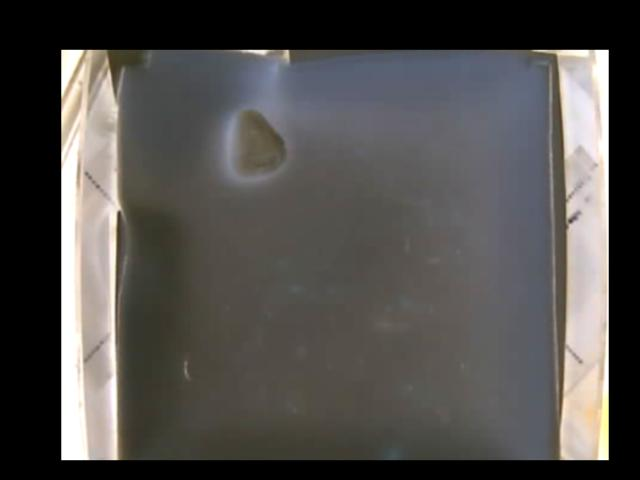Pebble: (232, 109, 287, 180)
